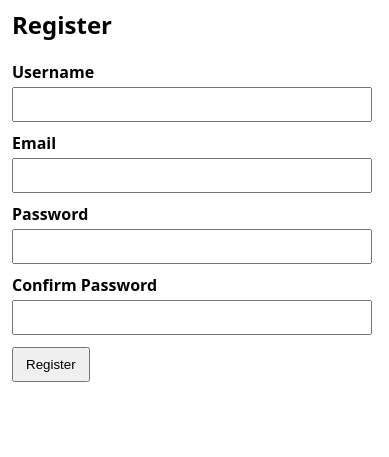
Register page › shows API error on failed registration
Type "marie" into the field labelled "Username" at (192, 104), box [12,87,372,122]
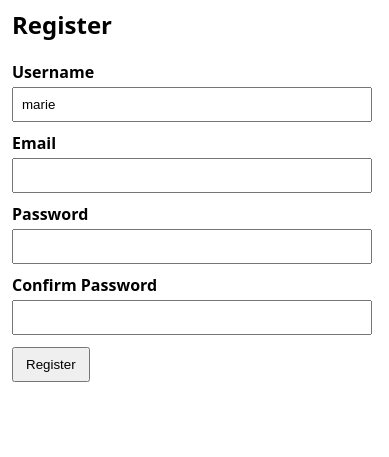
Type "marie@example.com" into the field labelled "Email" at (192, 175), box [12,158,372,193]
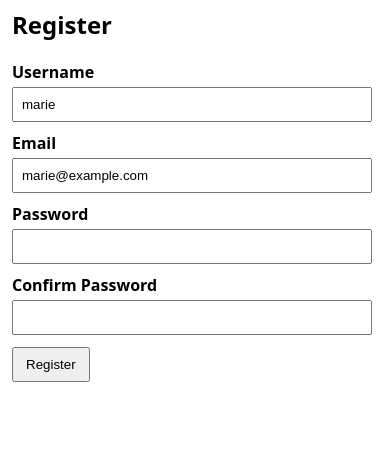
Type "Pass1234" into the password field labelled "Password" at (192, 246), box [12,229,372,264]
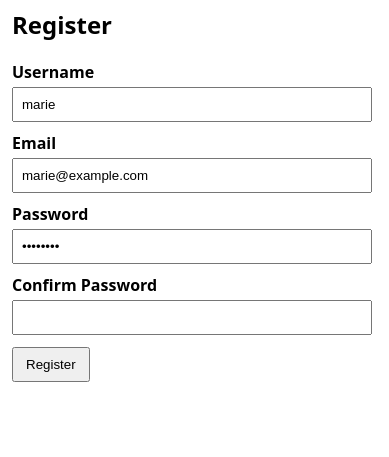
Type "Pass1234" into the password field labelled "Confirm Password" at (192, 317), box [12,300,372,335]
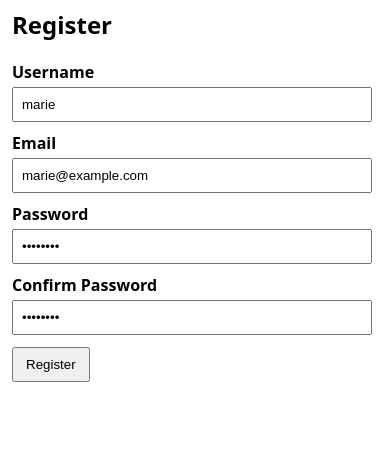
Click the button "Register" at (51, 364), box [12,347,90,382]
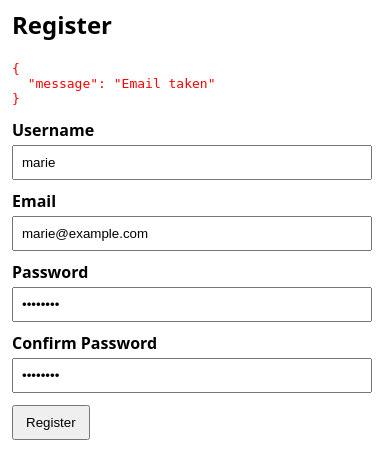
Expected: the text "{ \"message\": \"Email taken\" }" is shown, [12,61,216,106]
